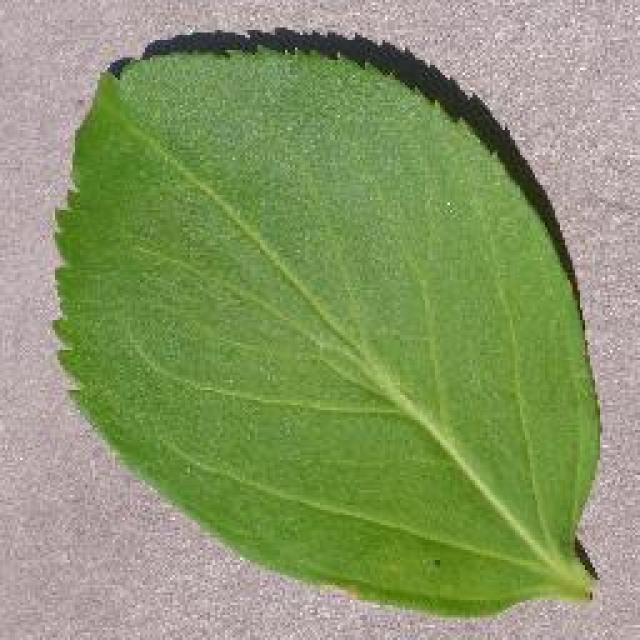Cher_including_sour_healthy: (59, 65, 615, 561)
